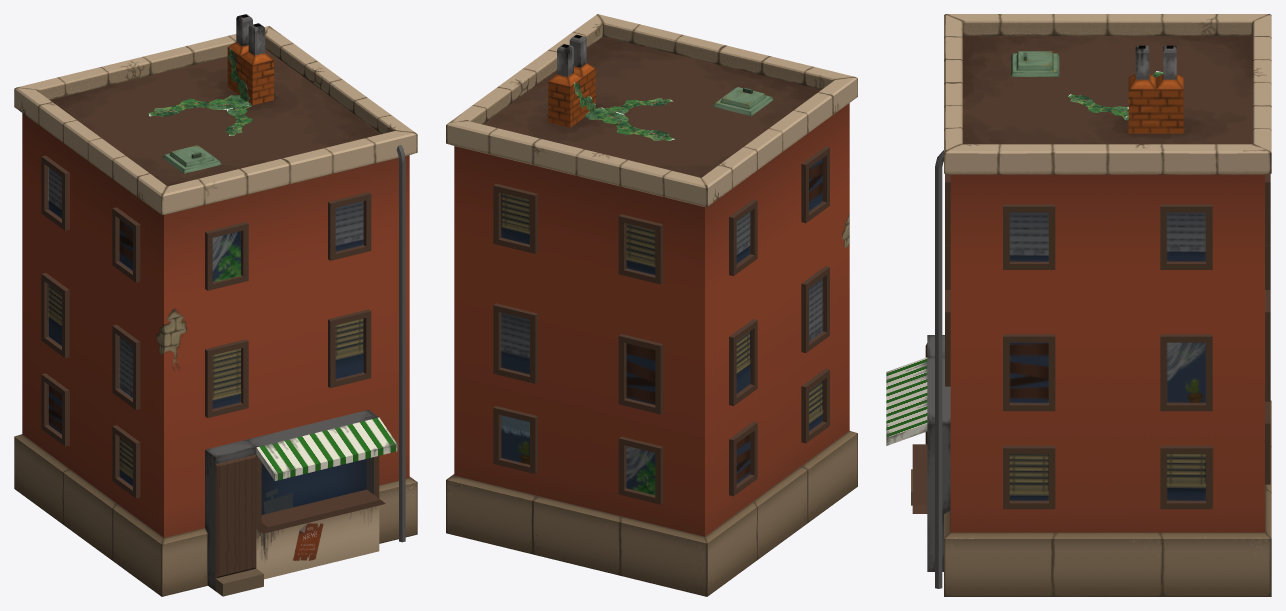
3 renders of one model, left to right at view 1: azimuth 30°, elevation 25°; view 2: azimuth 150°, elevation 25°; view 3: azimuth 270°, elevation 25°, orthographic. The views are drawn at different scales.
Parts seen in each view (by area): view 1: env_prop_house_01, env_prop_rainpipe, env_plant_02; view 2: env_prop_house_01, env_plant_02; view 3: env_prop_house_01, env_prop_rainpipe, env_plant_03.
Boxes of the visible parts, box(x1,y1,x2,y2) form: env_prop_house_01: box(14, 14, 417, 596); env_prop_rainpipe: box(396, 145, 405, 542); env_plant_02: box(148, 95, 248, 116); env_prop_house_01: box(446, 14, 857, 596); env_plant_02: box(585, 107, 674, 140); env_prop_house_01: box(886, 14, 1271, 596); env_prop_rainpipe: box(935, 150, 943, 588); env_plant_03: box(1068, 94, 1128, 120).
Size of the model in its own units: 2 by 3.44 by 2.35.
2 materials, 2 textured.
